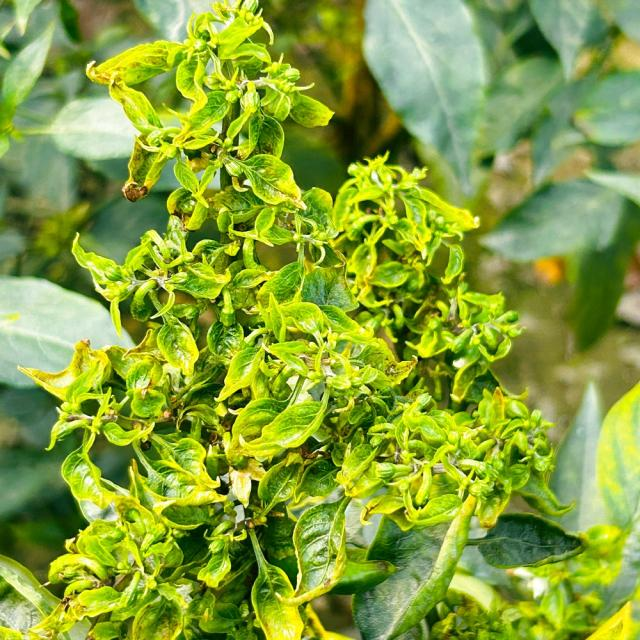Chilli_Leaf_Curl: (13, 0, 586, 639), (84, 0, 335, 227)
